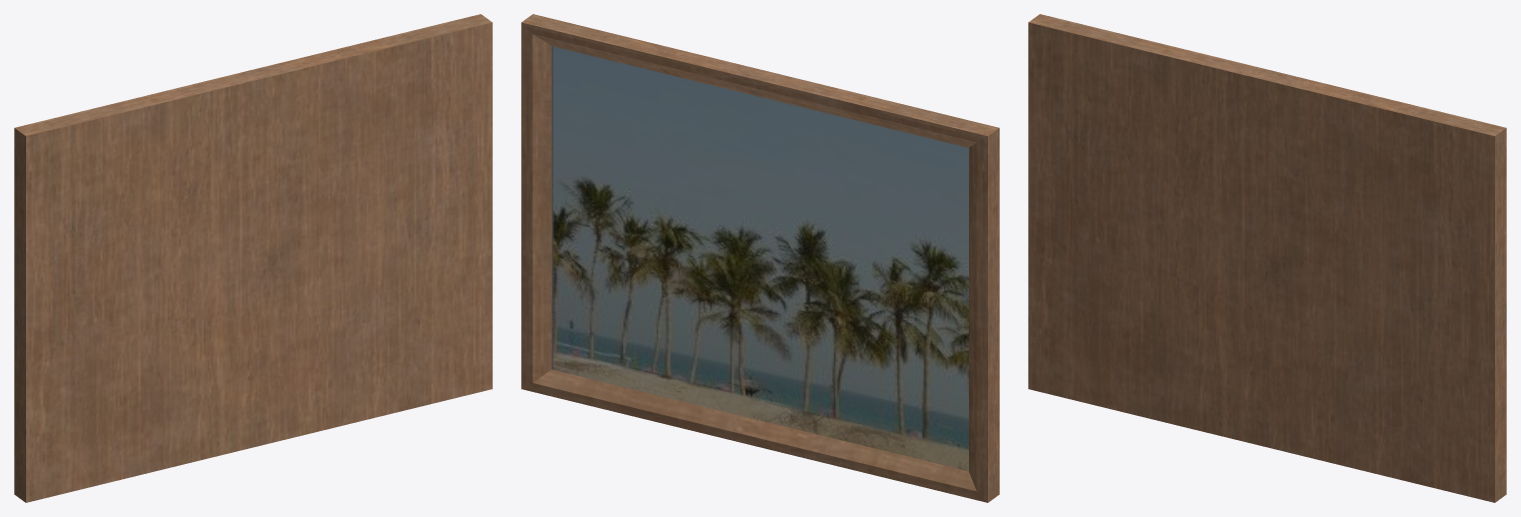
The model's file is painting_3.glb.
The picture shows the model from 3 angles, left to right: view 1: azimuth 30°, elevation 25°; view 2: azimuth 150°, elevation 25°; view 3: azimuth 330°, elevation 25°; orthographic projection.
Parts seen in each view (by area): view 1: Paintings_01; view 2: Paintings_01; view 3: Paintings_01.
Boxes of the visible parts, x1,y1,x2,y2 form: Paintings_01: [14, 14, 492, 502]; Paintings_01: [521, 14, 999, 502]; Paintings_01: [1028, 14, 1506, 502].
Bounding box in the file's own units: 1.18 × 0.884 × 0.0505.
2 materials, 2 textured.
